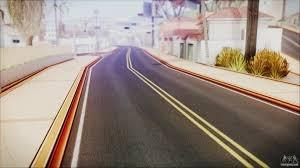road: (131, 47, 299, 167), (77, 47, 243, 166)
